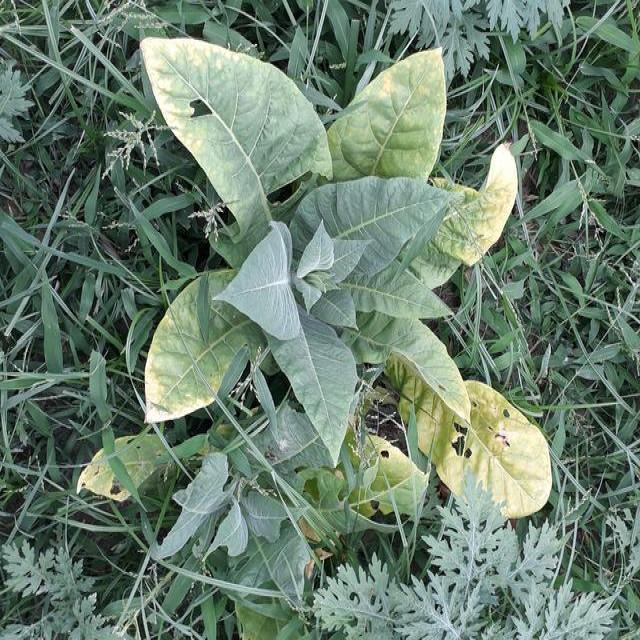crop: (139, 48, 552, 516)
